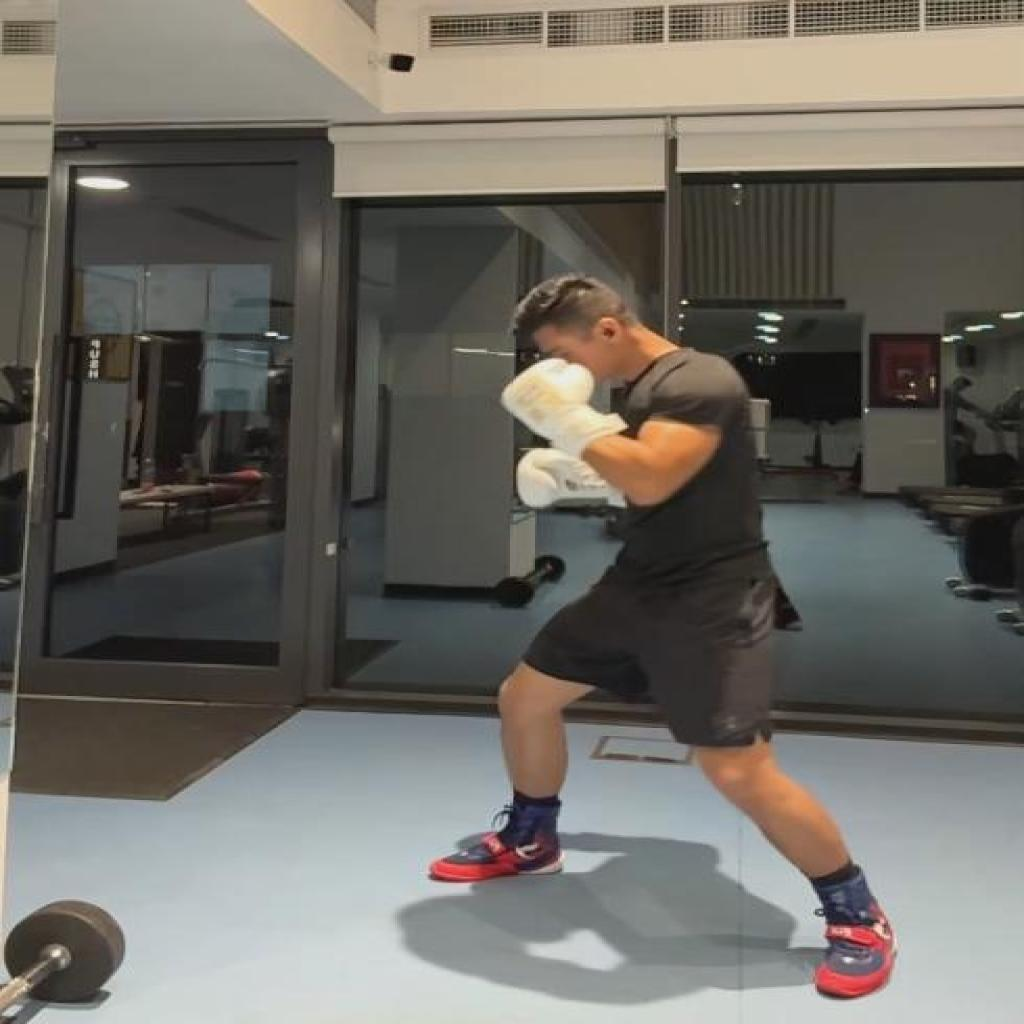no punch: (426, 270, 905, 1008)
